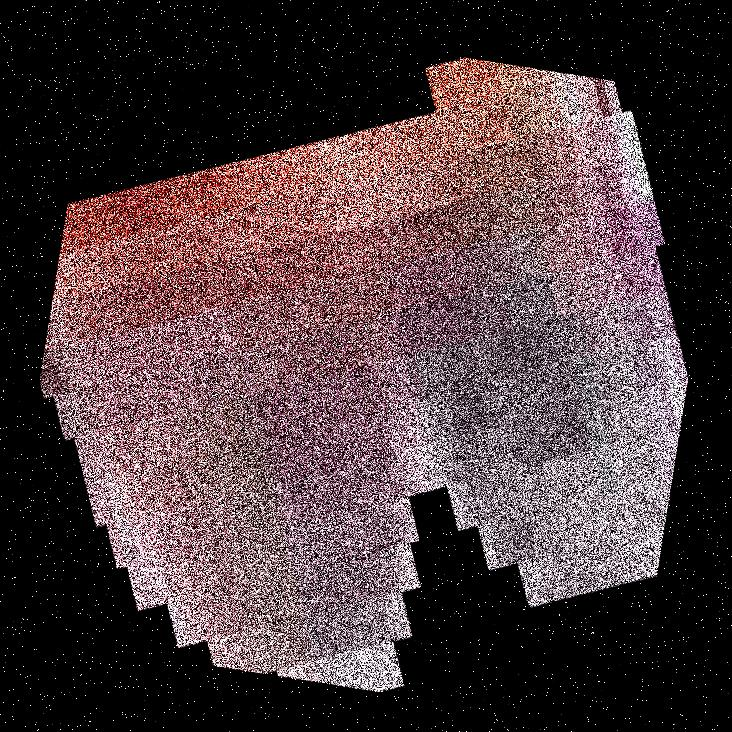Oculos: (129, 0, 628, 731)
